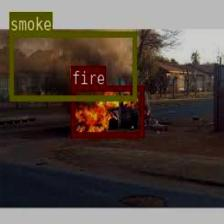fire: (71, 84, 144, 136)
smoke: (8, 31, 136, 100)
